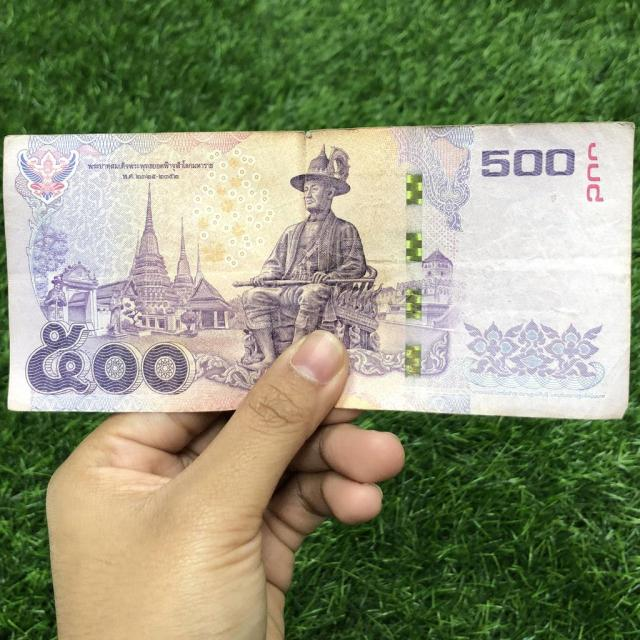THAI500: (5, 123, 634, 419)
